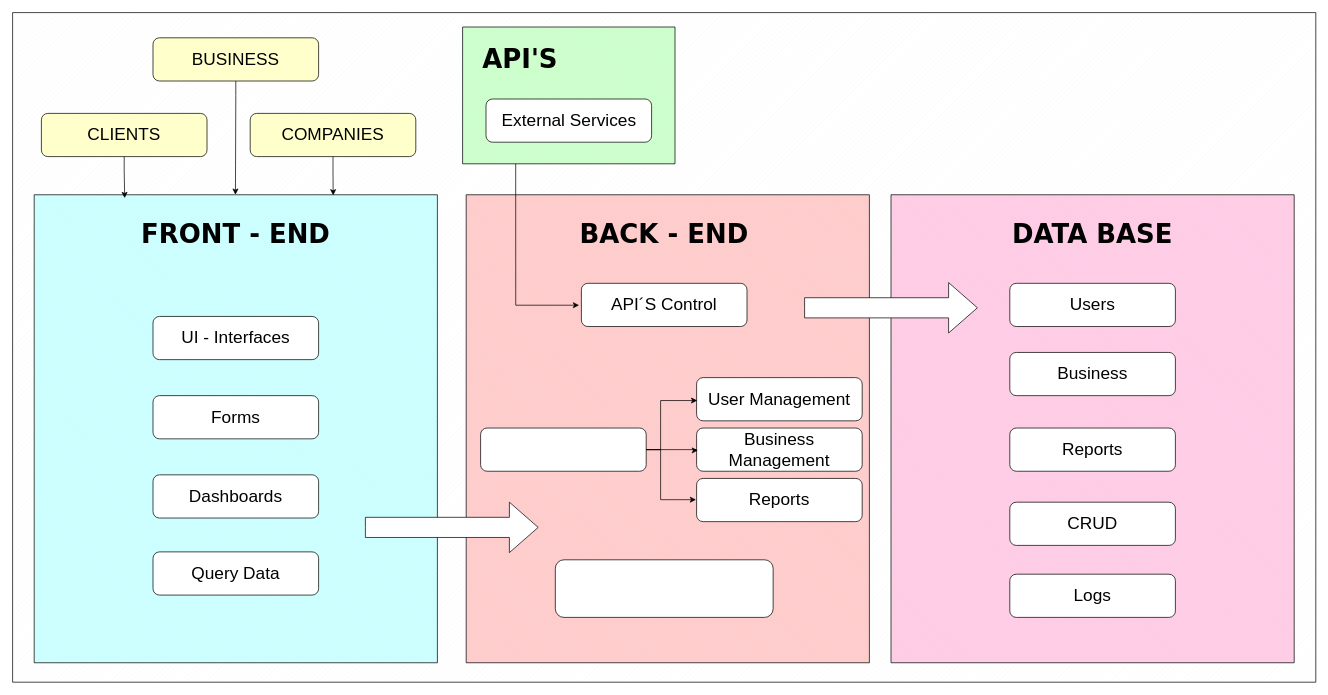
Image size: 1328x695. Some labels were removed from this diagram. Here are the shapes that lost their labels. From the top down, the centre of each, then its label:
At (563,449): "Business Logic".
At (664,588): "System Validations and Security".
